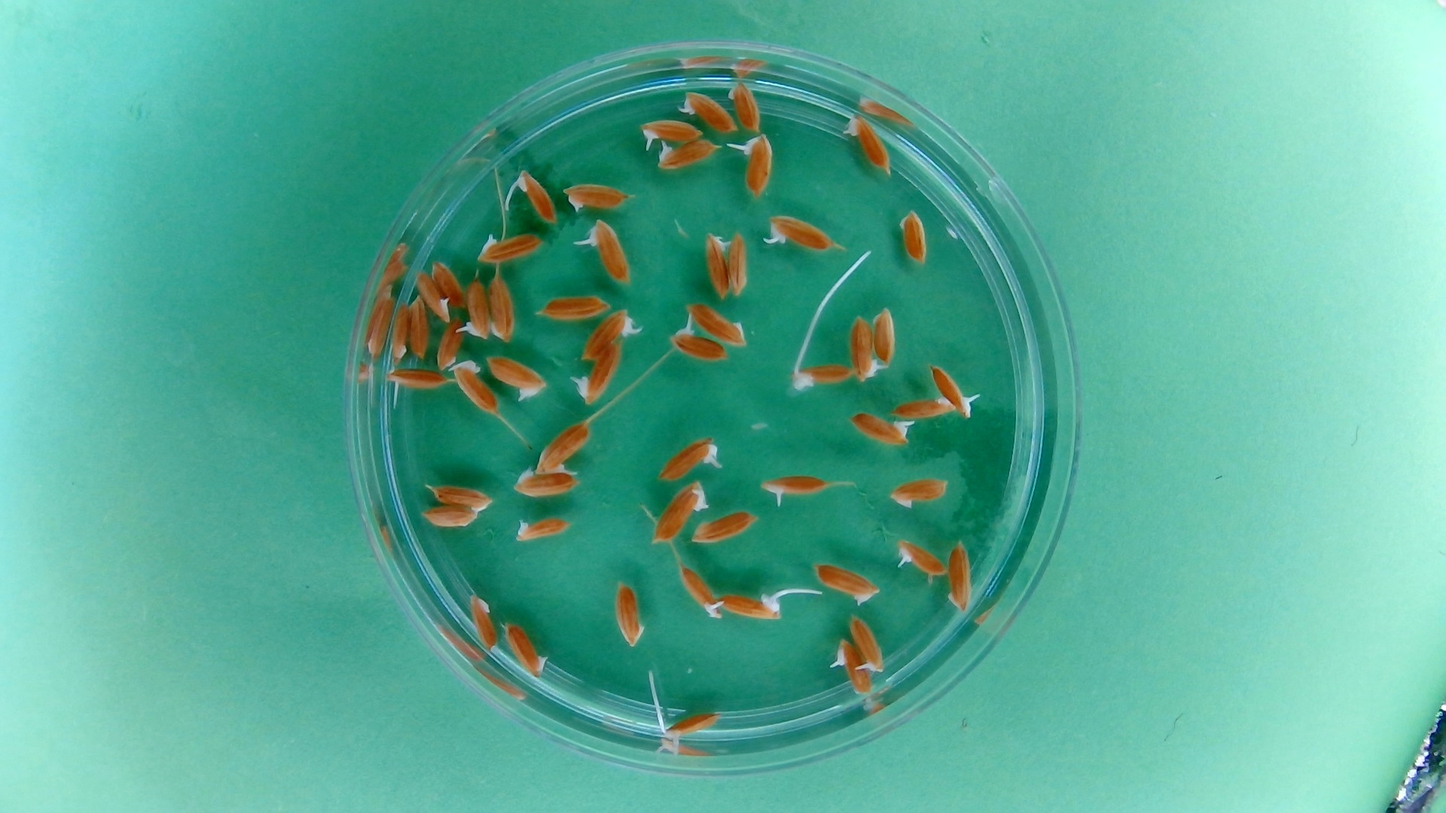no: (648, 479, 708, 546), (843, 111, 894, 176), (535, 417, 592, 474), (684, 300, 749, 348), (812, 561, 881, 605), (485, 353, 548, 400), (450, 358, 499, 418), (501, 618, 548, 680), (691, 508, 758, 546), (535, 291, 614, 323), (611, 578, 646, 650), (510, 466, 581, 500), (561, 180, 631, 214), (847, 312, 880, 383), (944, 540, 975, 614), (487, 271, 518, 345), (888, 475, 952, 510), (654, 138, 719, 172), (465, 592, 498, 655), (429, 482, 495, 513), (728, 78, 764, 133), (429, 256, 466, 309), (898, 208, 931, 266), (407, 294, 432, 361), (388, 297, 413, 364), (417, 504, 480, 530), (727, 229, 751, 297), (872, 305, 898, 367), (889, 396, 953, 421), (435, 320, 464, 372)
yes: (574, 339, 624, 405), (586, 218, 633, 285), (580, 307, 638, 361), (655, 437, 719, 483), (765, 212, 836, 252), (678, 87, 739, 133), (676, 564, 724, 620), (514, 168, 558, 224), (476, 230, 545, 265), (833, 636, 873, 696), (848, 410, 911, 448), (929, 364, 973, 418), (849, 612, 886, 676), (669, 324, 728, 363), (412, 268, 453, 323), (739, 133, 773, 198), (660, 709, 721, 744), (895, 537, 948, 577), (718, 590, 782, 623), (638, 116, 703, 148), (461, 275, 491, 342), (702, 230, 731, 299), (759, 472, 827, 501), (384, 367, 450, 394), (513, 515, 572, 544), (786, 365, 851, 388)
